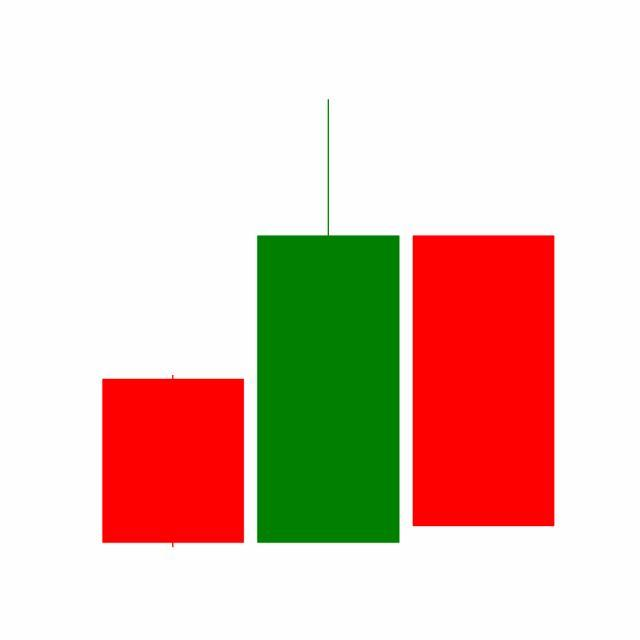Marubozu: (406, 232, 562, 530)
